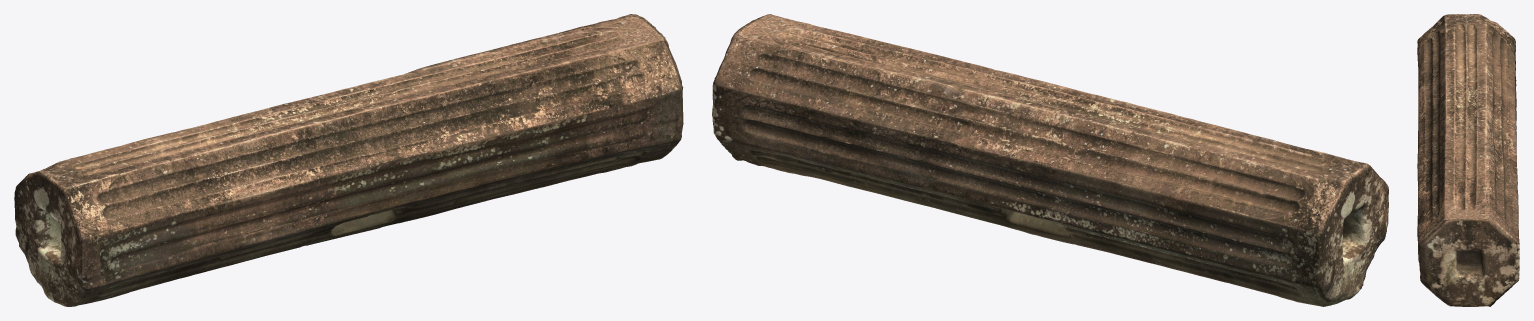
The model's file is 28_MysonSanctuaryB_Trucot_final.glb.
The picture shows the model from 3 angles, left to right: view 1: azimuth 30°, elevation 25°; view 2: azimuth 150°, elevation 25°; view 3: azimuth 270°, elevation 25°; orthographic projection. The views are drawn at different scales.
Size of the model in its own units: 2.42 by 0.5058 by 0.4977.
Materials: 1 (1 with a texture image).
